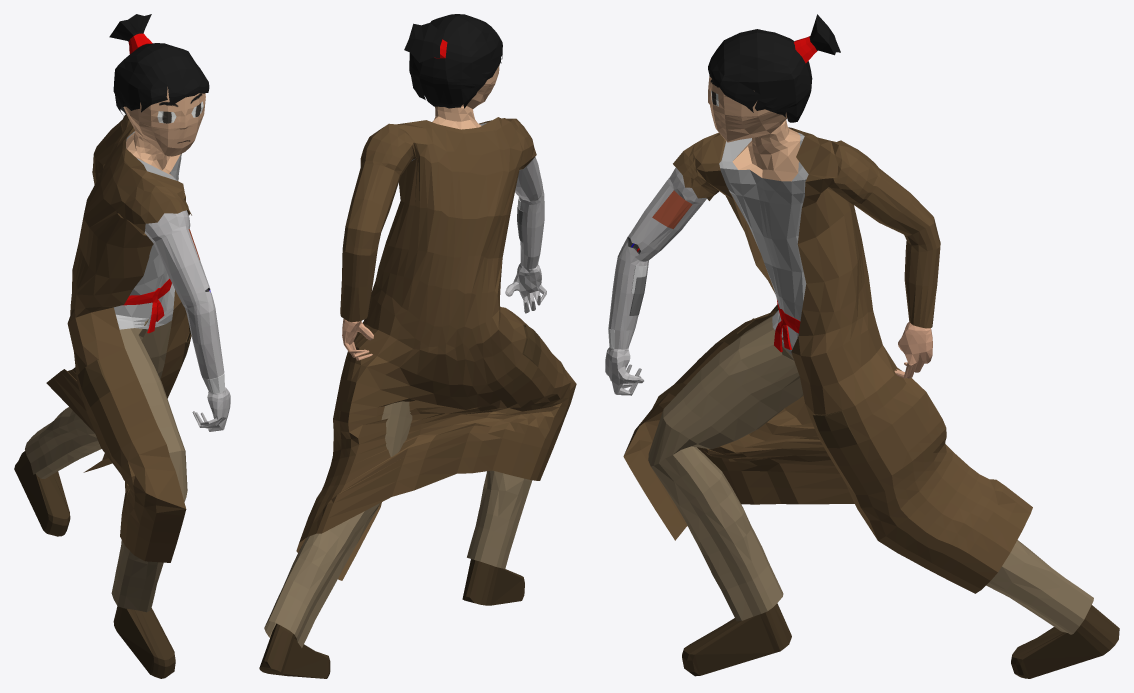
File: OneAnimationTest_000017.obj
3 views of the same model, side by side, from view 1: azimuth 30°, elevation 25°; view 2: azimuth 150°, elevation 25°; view 3: azimuth 270°, elevation 25° (orthographic). The views are drawn at different scales.
Parts seen in each view (by area): view 1: Jacket_Cube, Body_Cube.003, Hair_Cube.004; view 2: Jacket_Cube, Body_Cube.003, Hair_Cube.004; view 3: Jacket_Cube, Body_Cube.003, Hair_Cube.004.
Boxes of the visible parts, x1,y1,x2,y2 form: Jacket_Cube: [46, 114, 191, 562]; Body_Cube.003: [14, 87, 230, 678]; Hair_Cube.004: [109, 14, 209, 115]; Jacket_Cube: [296, 117, 576, 580]; Body_Cube.003: [259, 65, 546, 678]; Hair_Cube.004: [404, 14, 502, 108]; Jacket_Cube: [623, 127, 1032, 593]; Body_Cube.003: [605, 75, 1119, 678]; Hair_Cube.004: [708, 14, 840, 122].
Size of the model in its own units: 0.8916 by 3.63 by 2.53.
